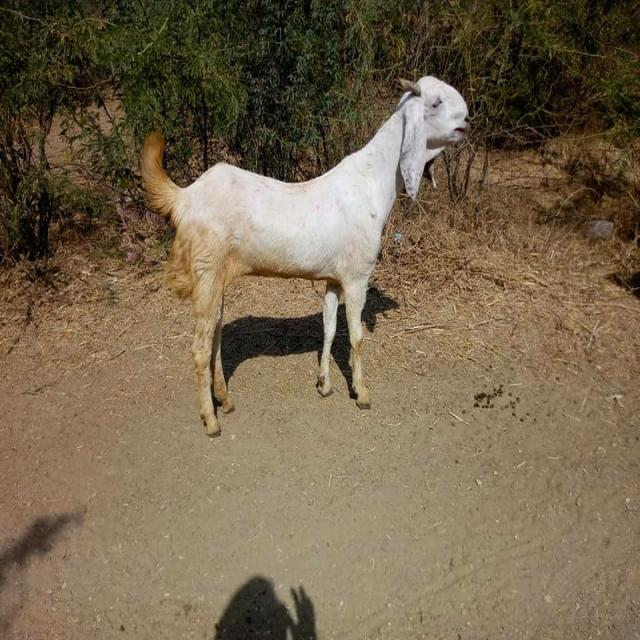Goat: (140, 74, 471, 437)
